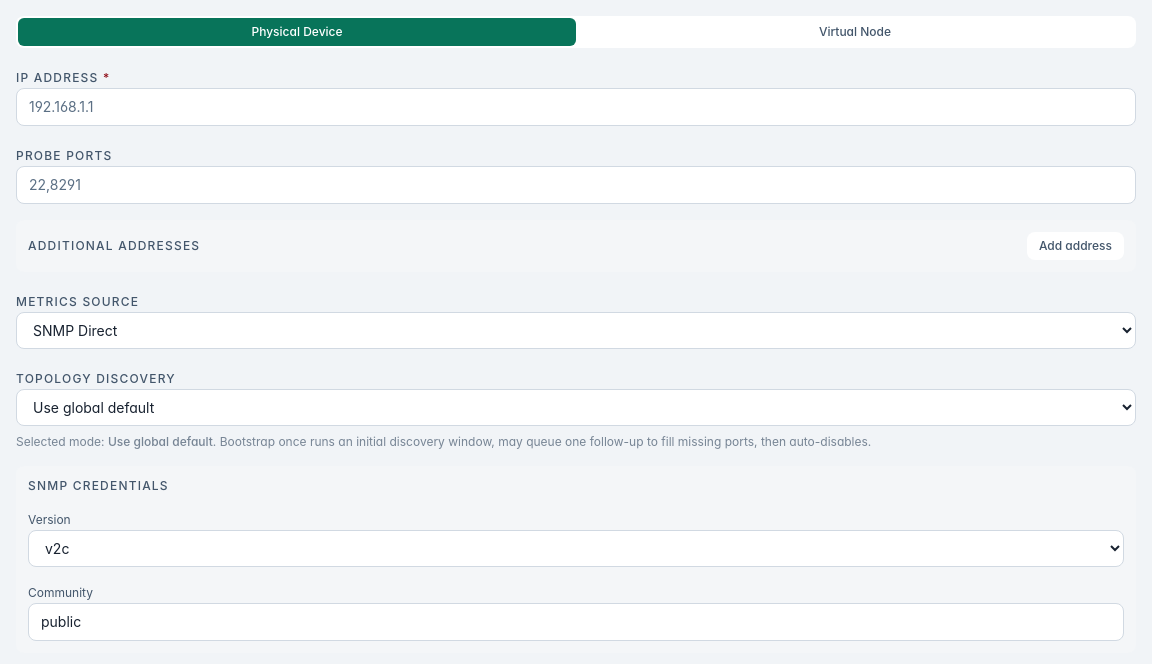
Test: virtual mode › stacks additional address controls vertically with compact visible labels
Click the button "Add address".
click(1075, 246)  # box x1=1027 y1=232 x2=1124 y2=260
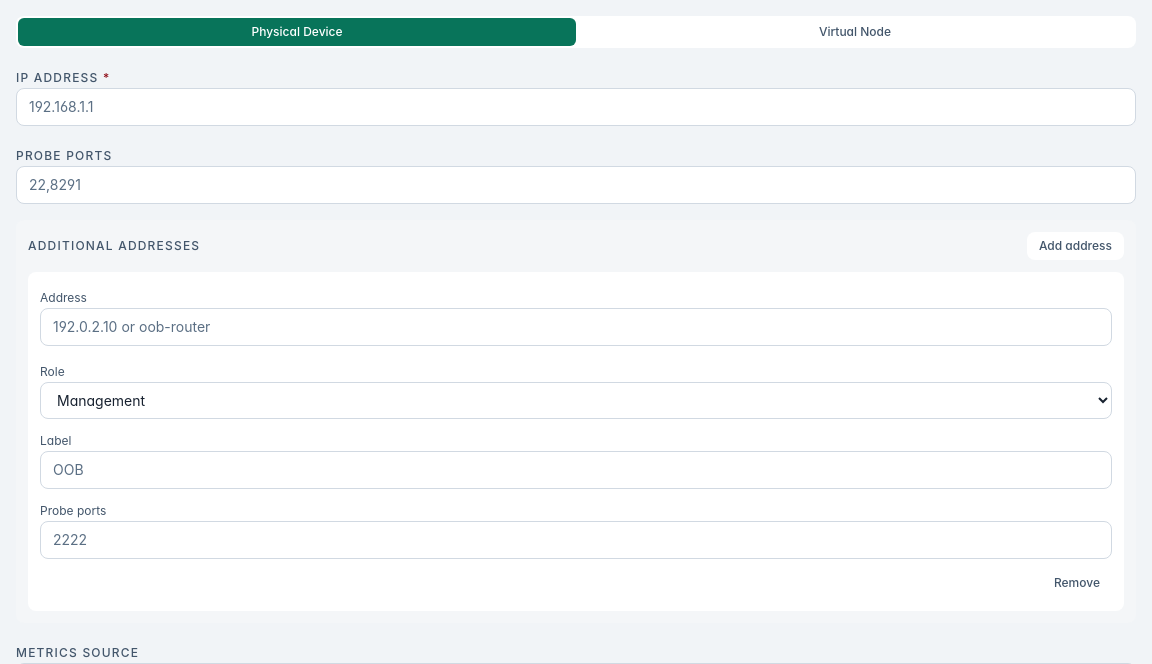
Expected: the text "Address" is shown, x1=40 y1=290 x2=87 y2=305
Expected: the text "Role" is shown, x1=40 y1=364 x2=65 y2=379
Expected: the text "Label" is shown, x1=40 y1=433 x2=71 y2=448
